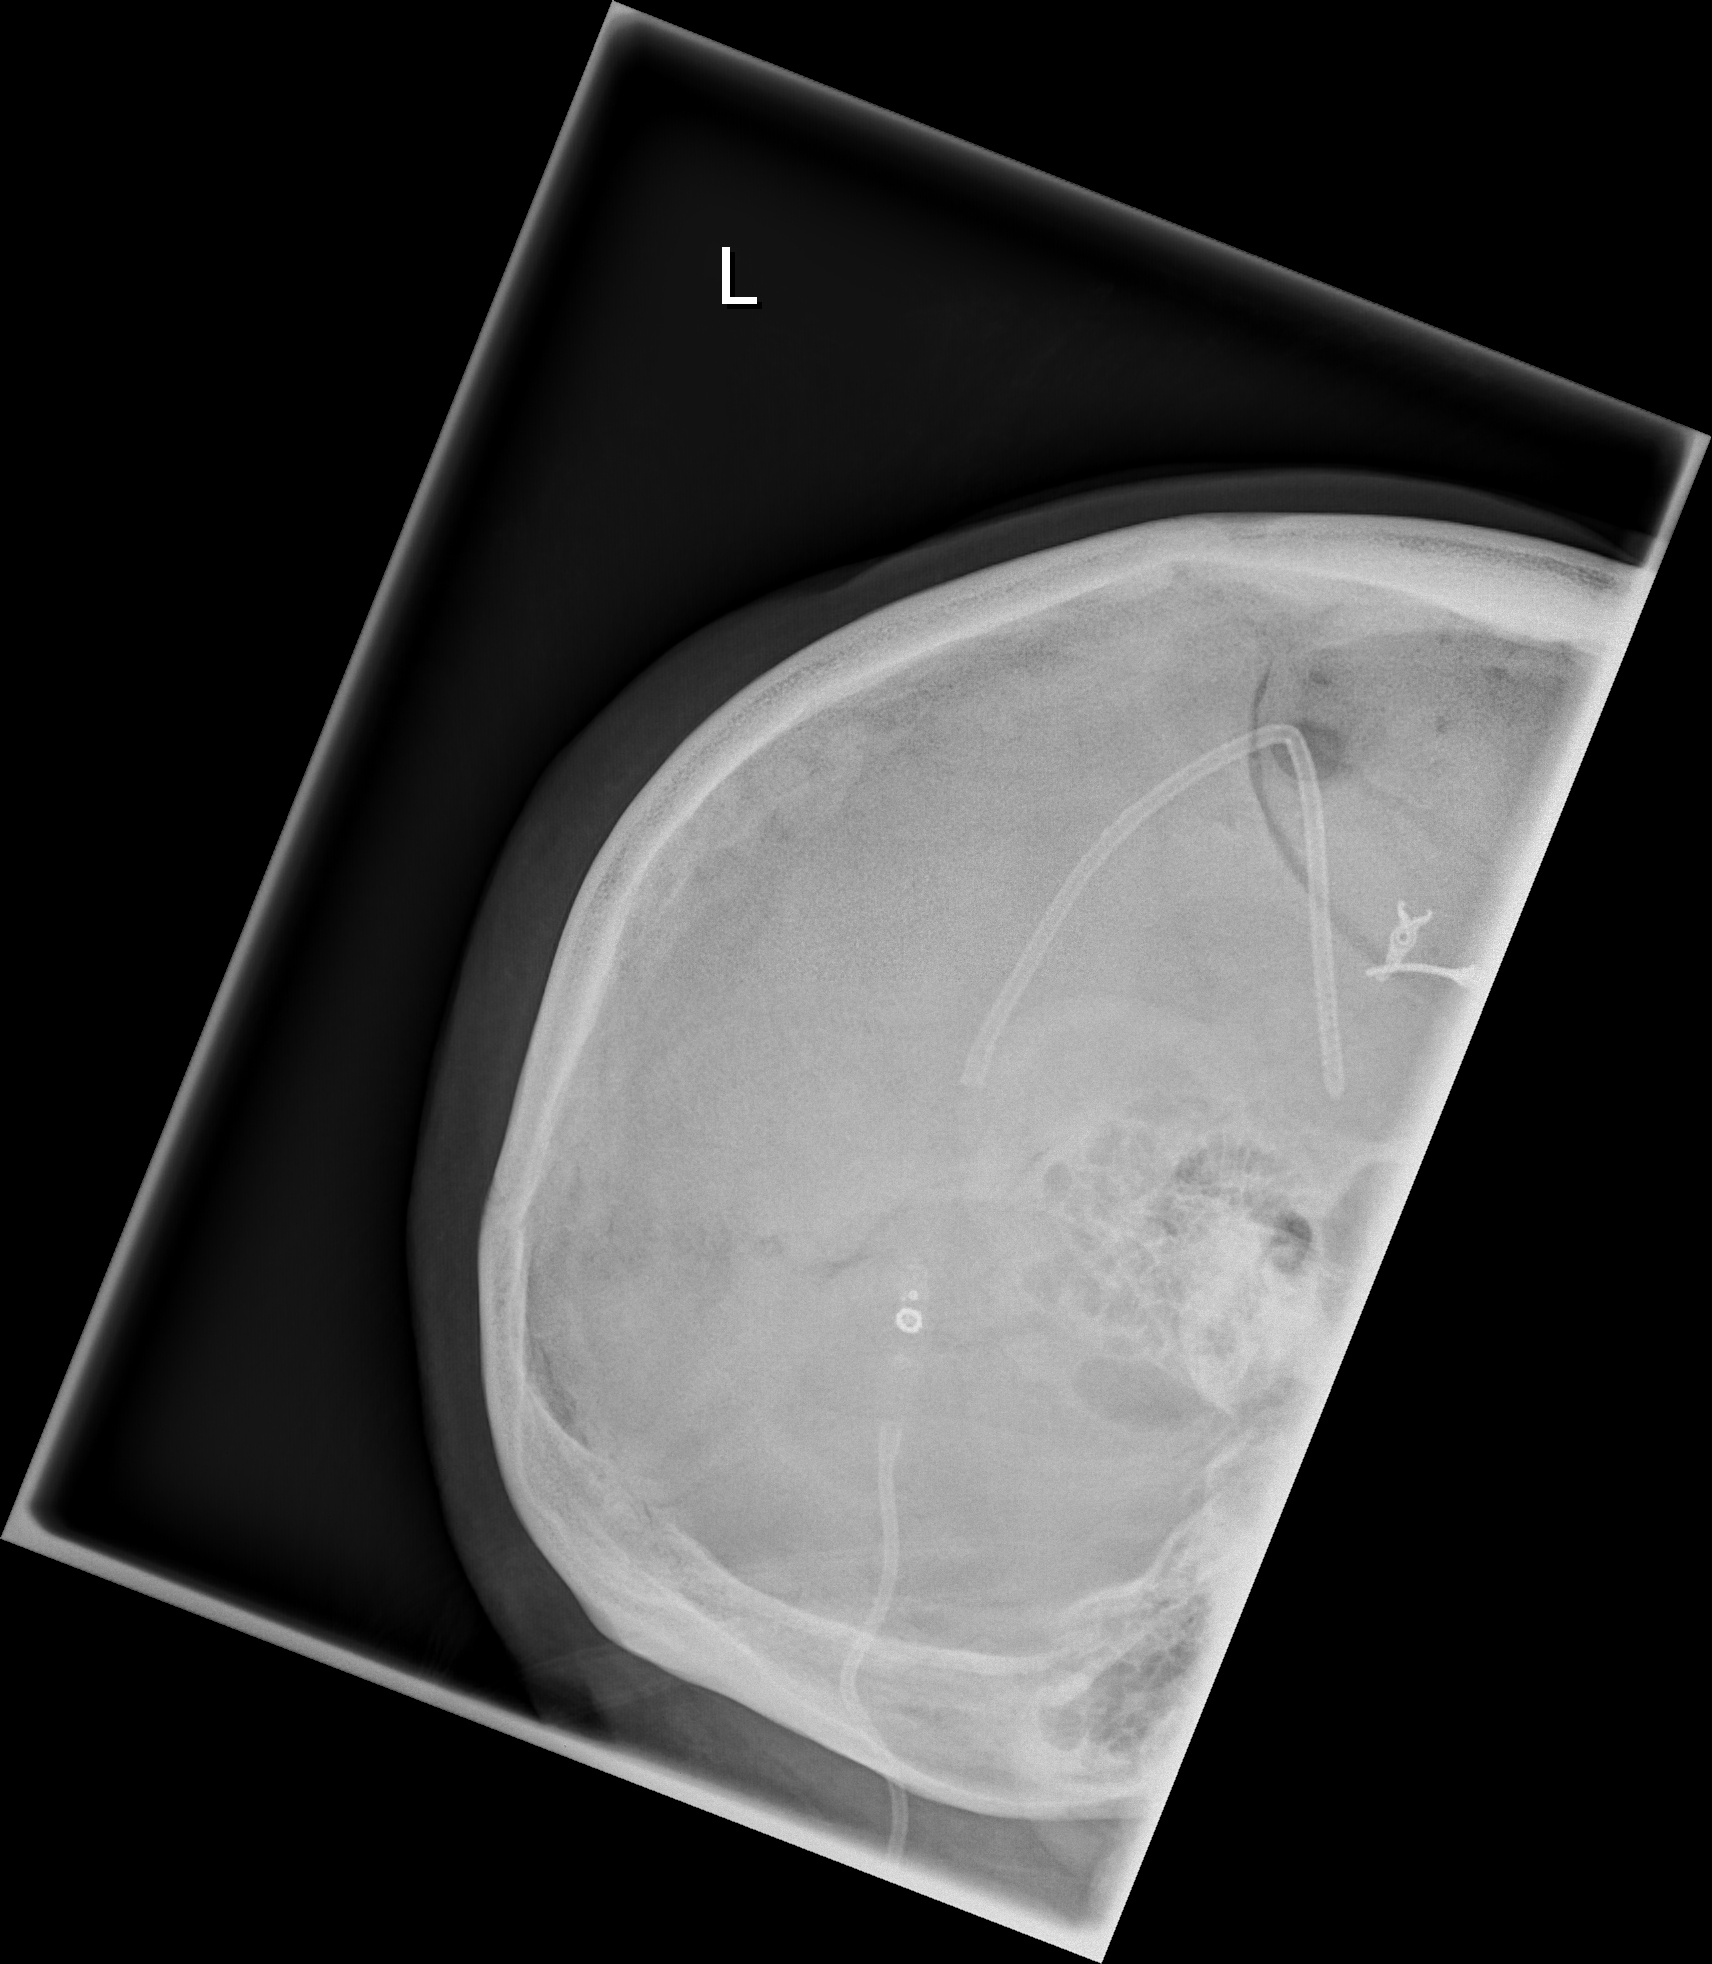Codman Hakim: (879, 1273, 935, 1344)
